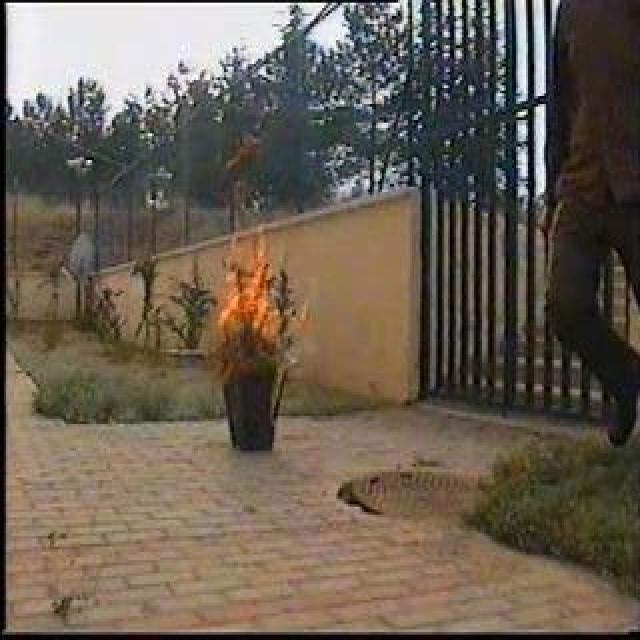fire: (220, 168, 270, 347)
smoke: (295, 113, 321, 210)
